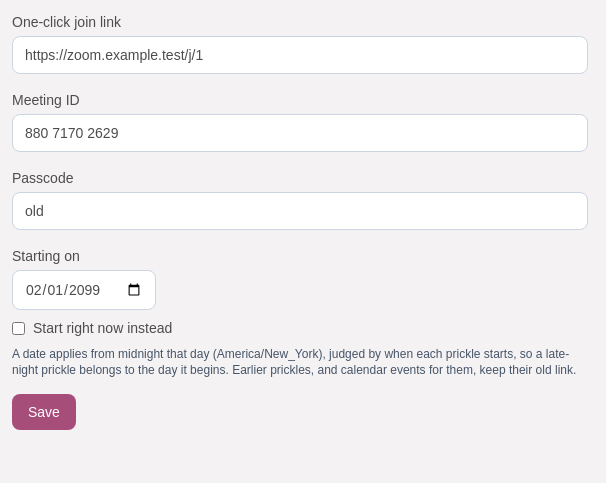
Test case: PrickleJoinForm › saves the link and passcode for the default start day, and confirms it
Expected: the date field labelled "Starting on" holds "2099-02-01", [12,270,156,310]
Replace the text in the field labelled "Passcode" with "new" at (300, 211), box [12,192,588,230]
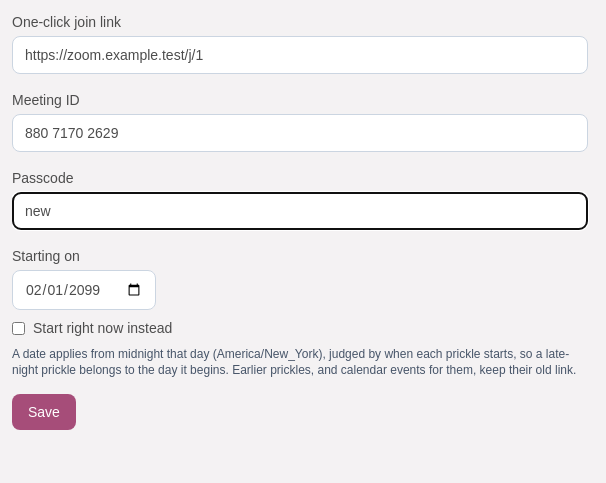
Click the button "Save".
click(44, 412)  # box [12,394,76,430]
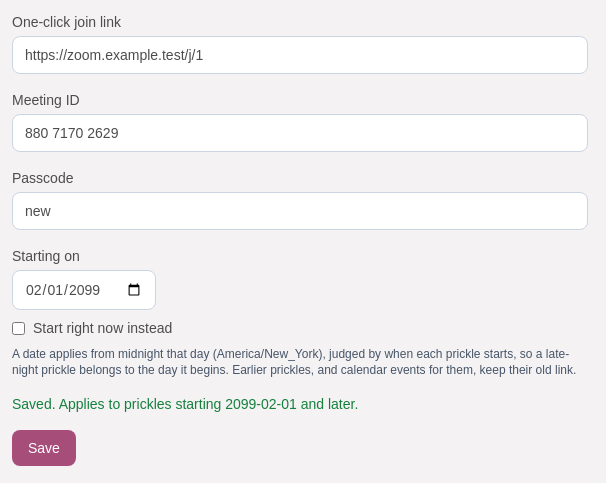
Expected: the text "Saved. Applies to prickles starting 2099-02-01 and later." is shown, [12,396,358,412]
